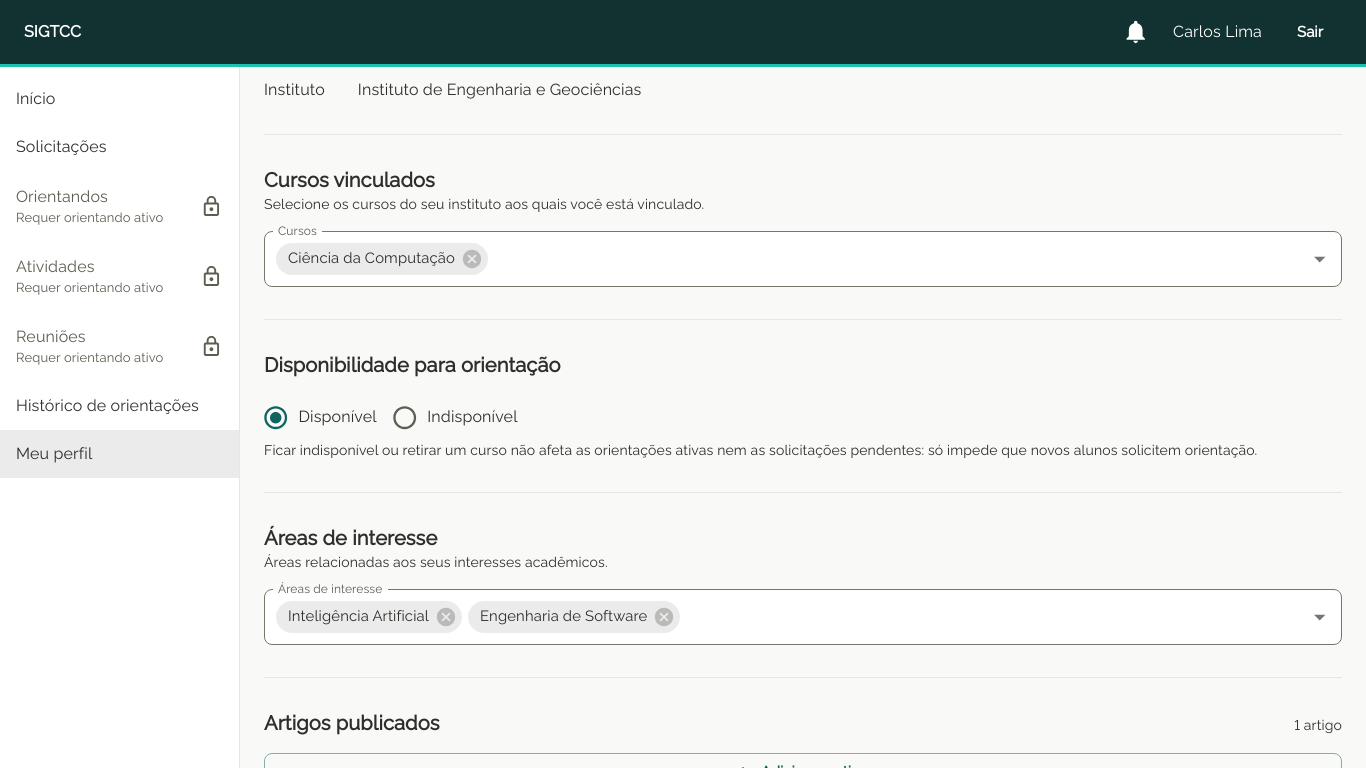
Scenario: TeacherProfilePage: carregamento › só mostra a barra de salvar quando há alteração e leva o foco ao título depois de salvar
(page scrolled)
Check: the button "Salvar alterações" is not shown
Click the radio button labelled "Indisponível". click: point(450, 417)
box: [382,395,518,440]
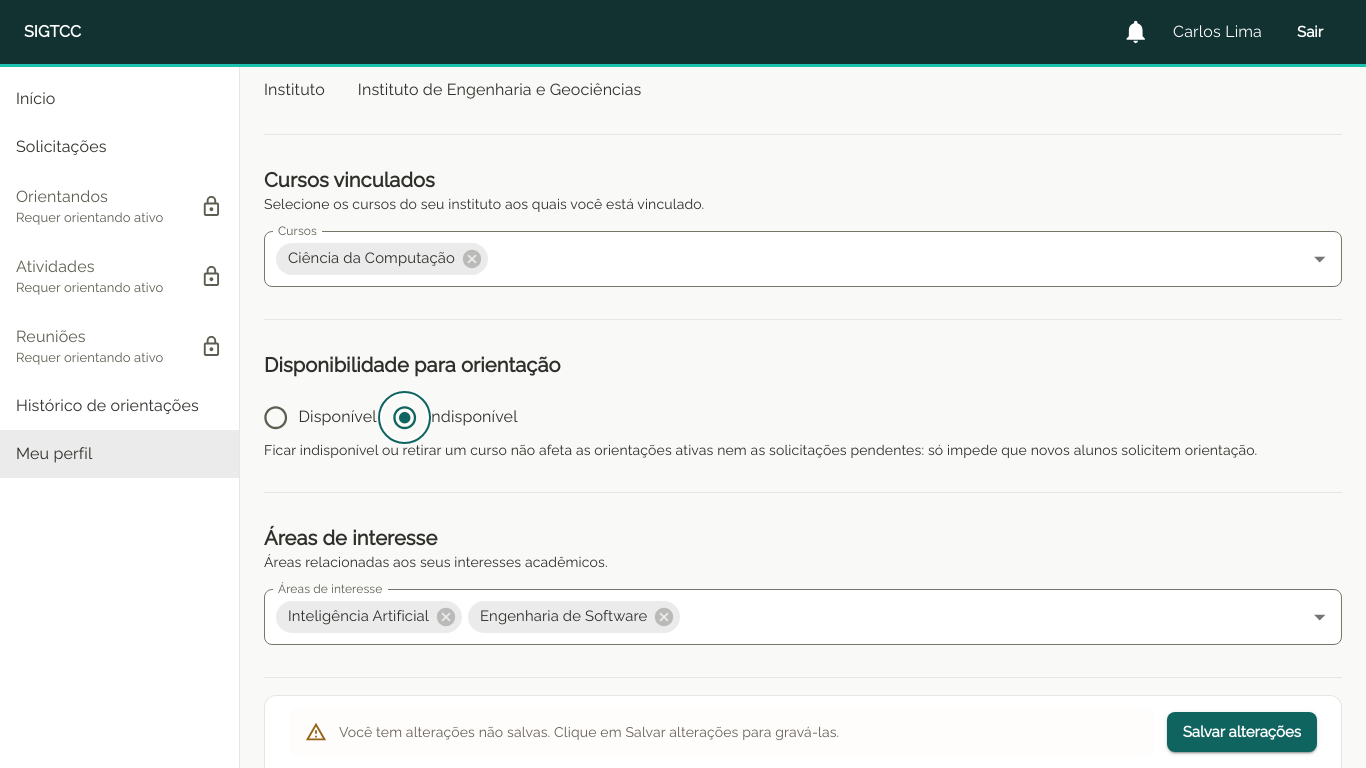
Click the button "Salvar alterações". click: point(1242, 732)
box: [1167,712,1317,752]
(page scrolled)
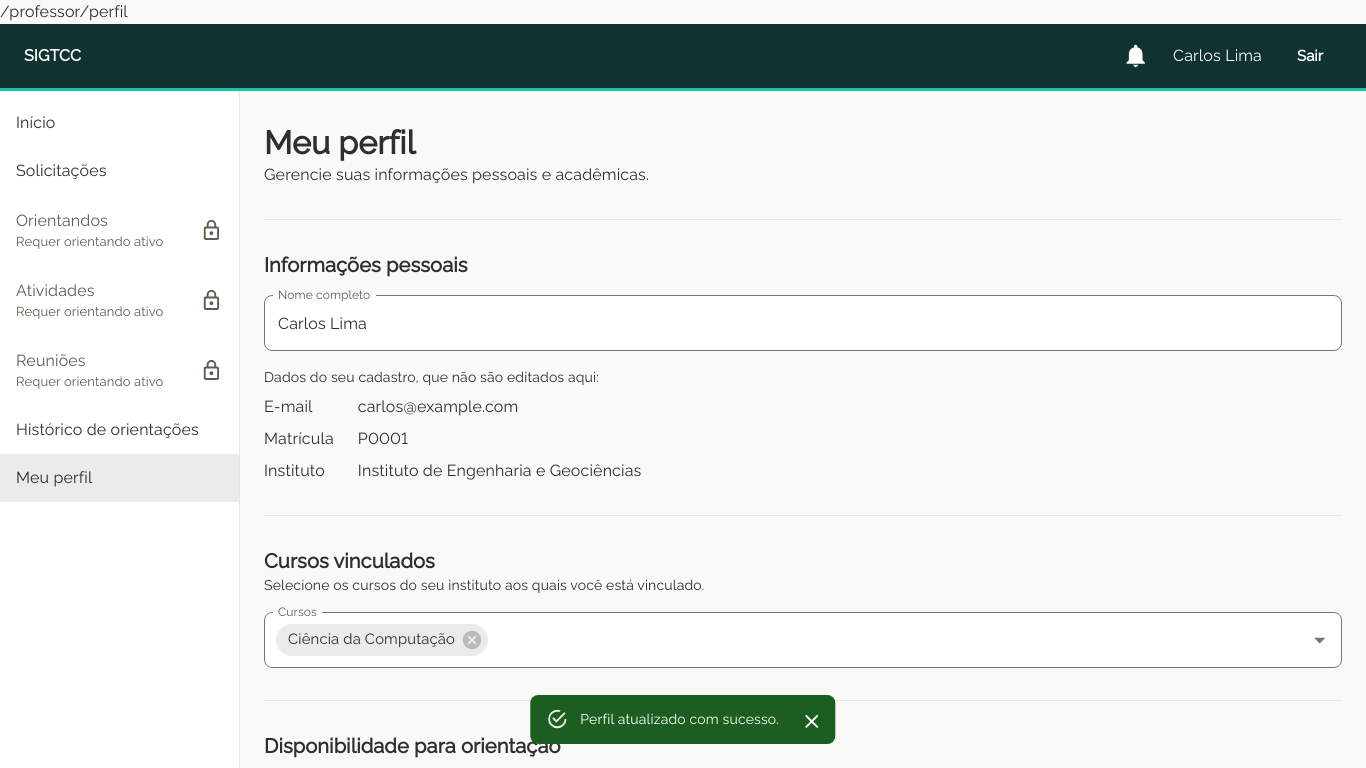
Check: the text "Perfil atualizado com sucesso." is shown, box [580,711,779,727]
Check: the text "Salvar alterações" is gone
